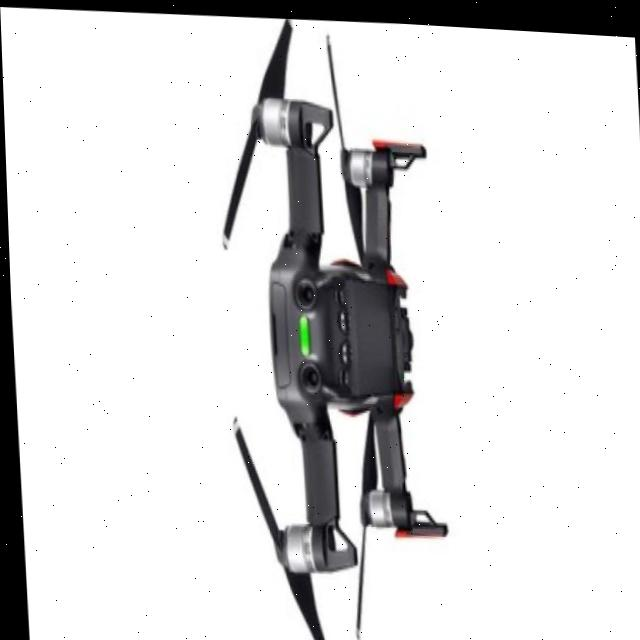drones: (193, 9, 483, 640)
